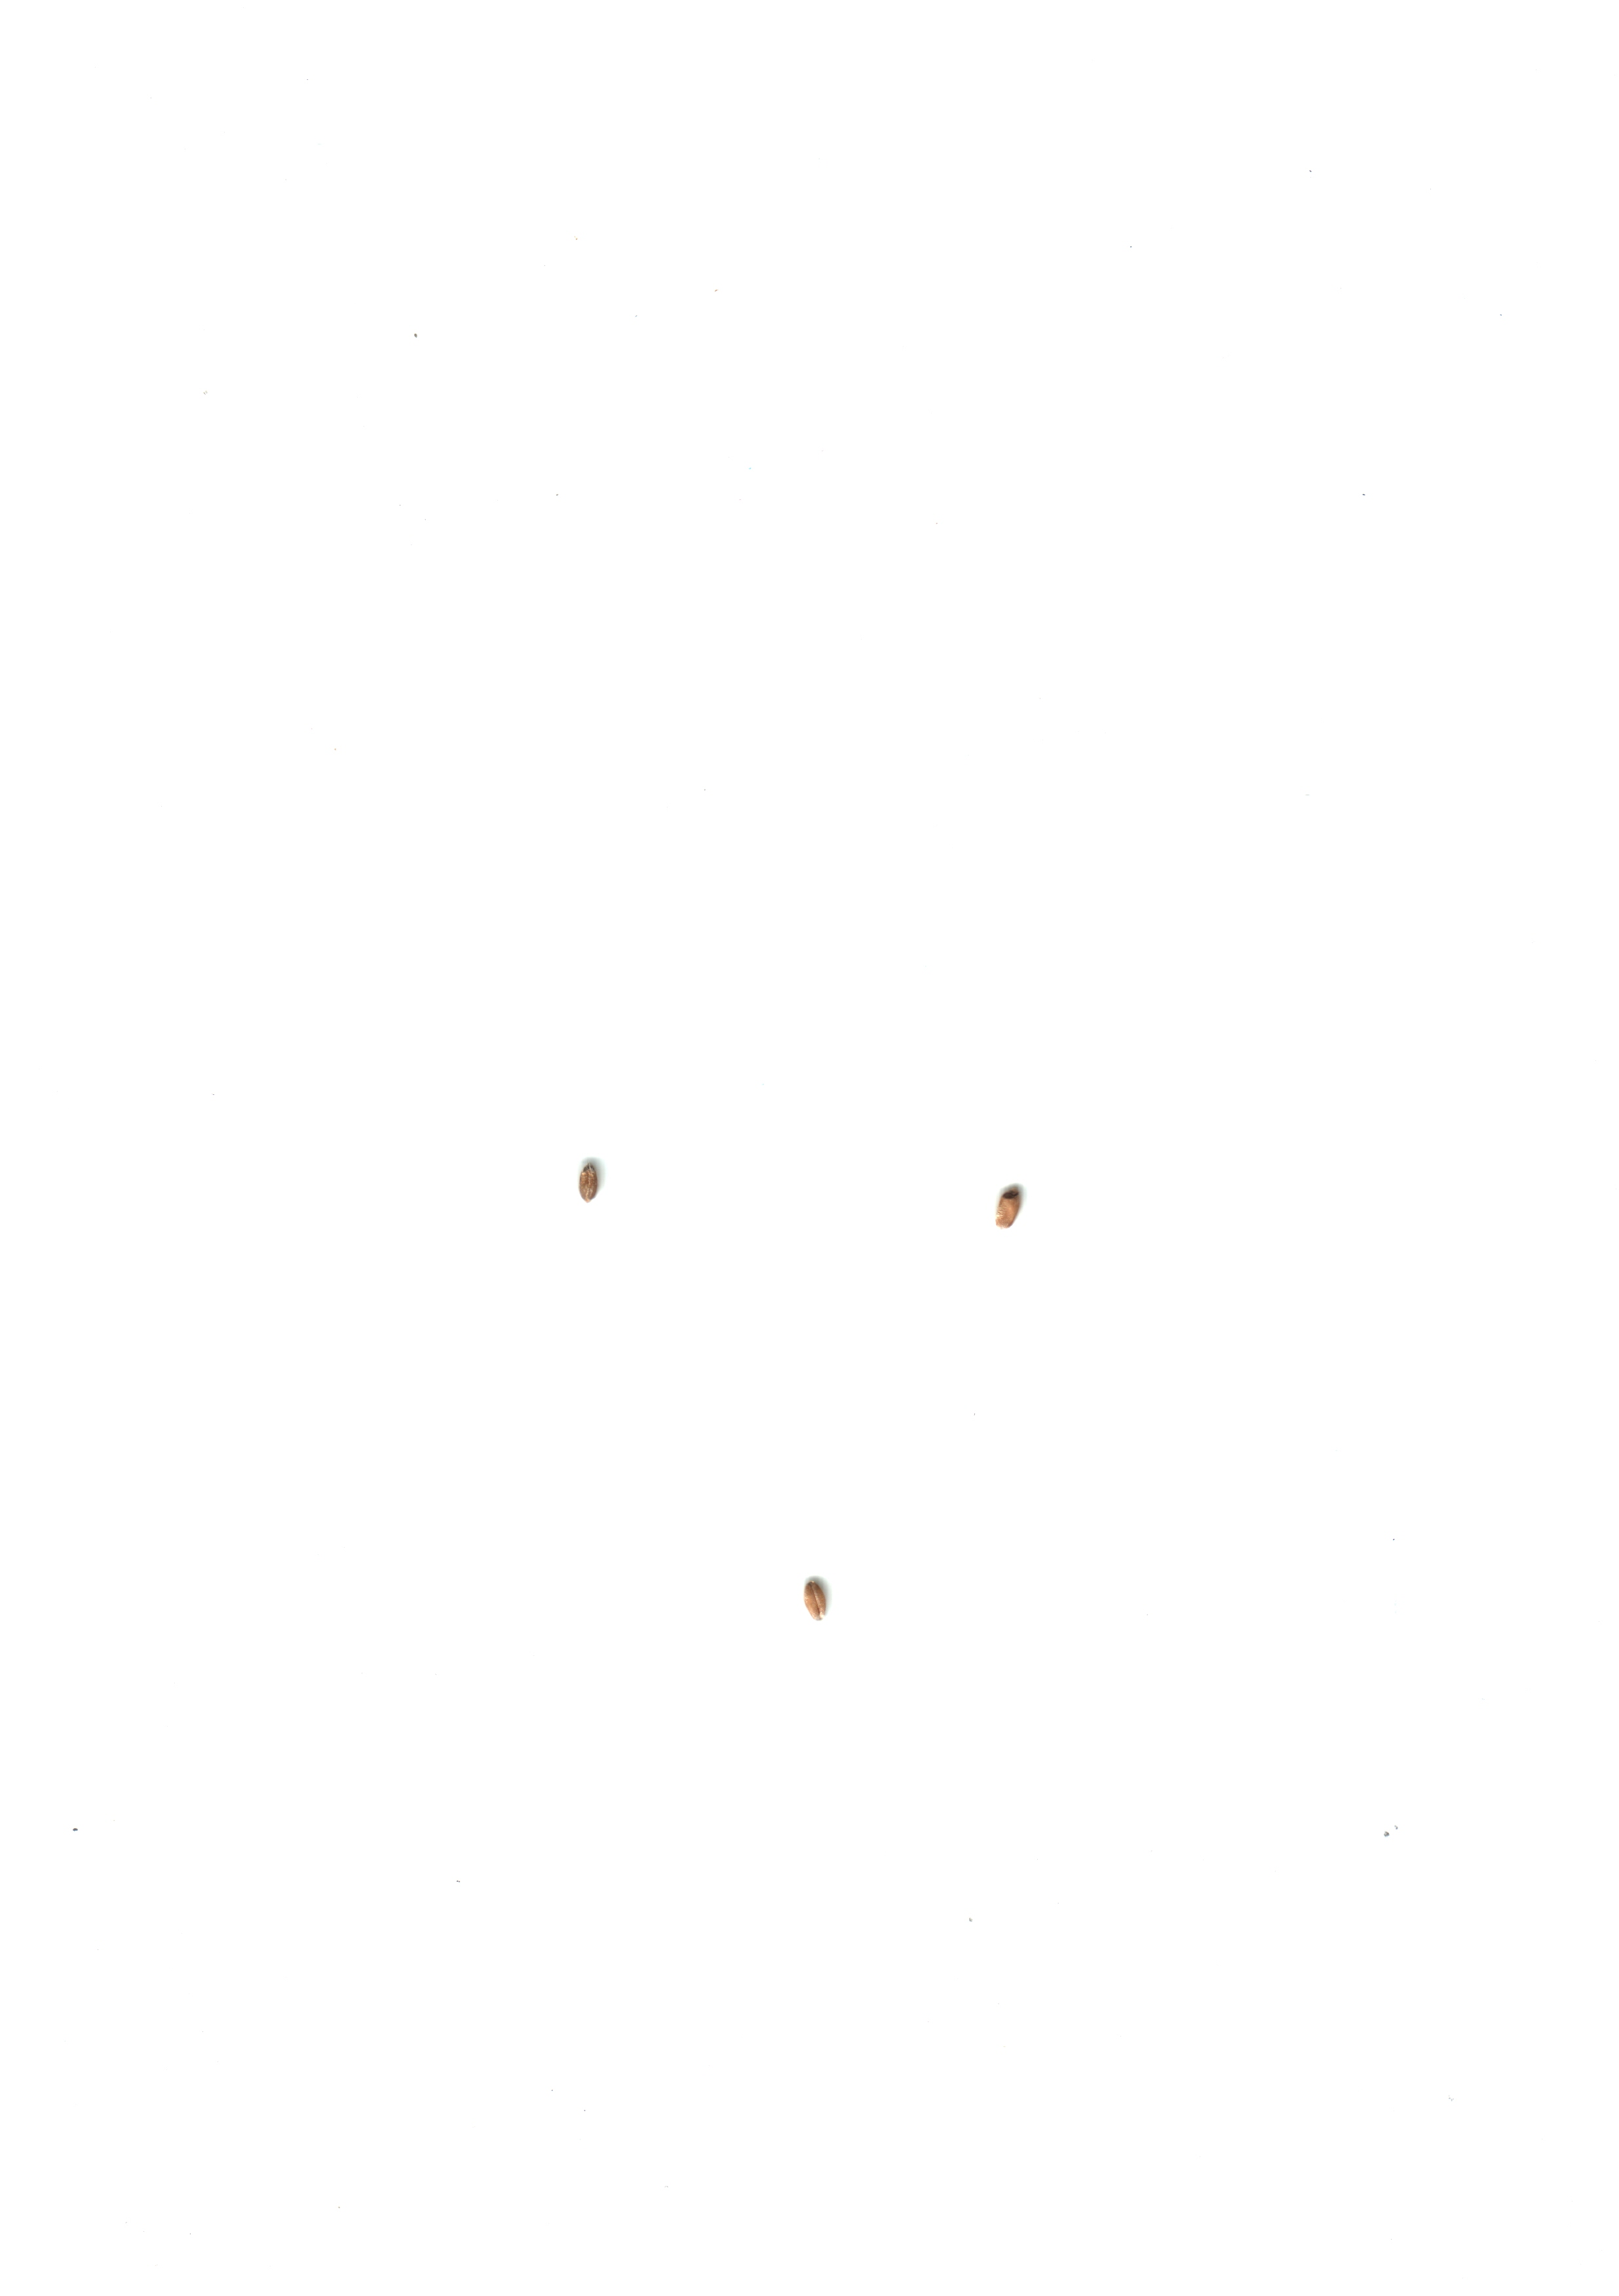grains_2_5mm: (550, 1141, 633, 1229), (971, 1166, 1051, 1255), (778, 1551, 859, 1639)
